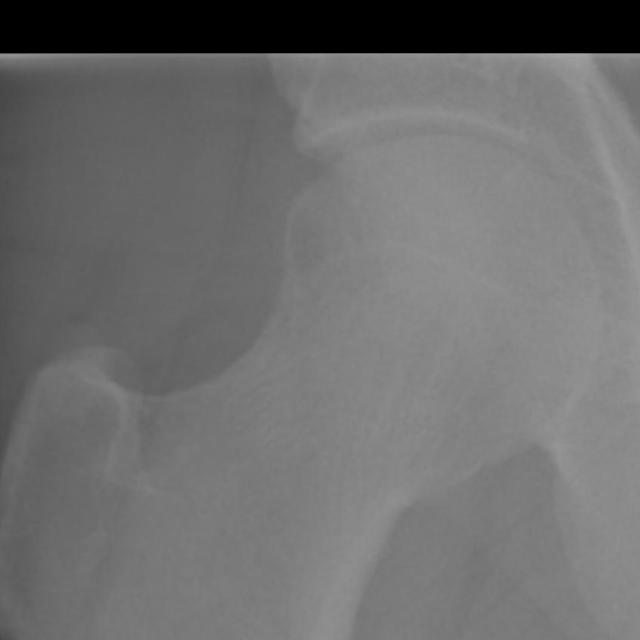Fitted_femural_head: (343, 136, 432, 343)
